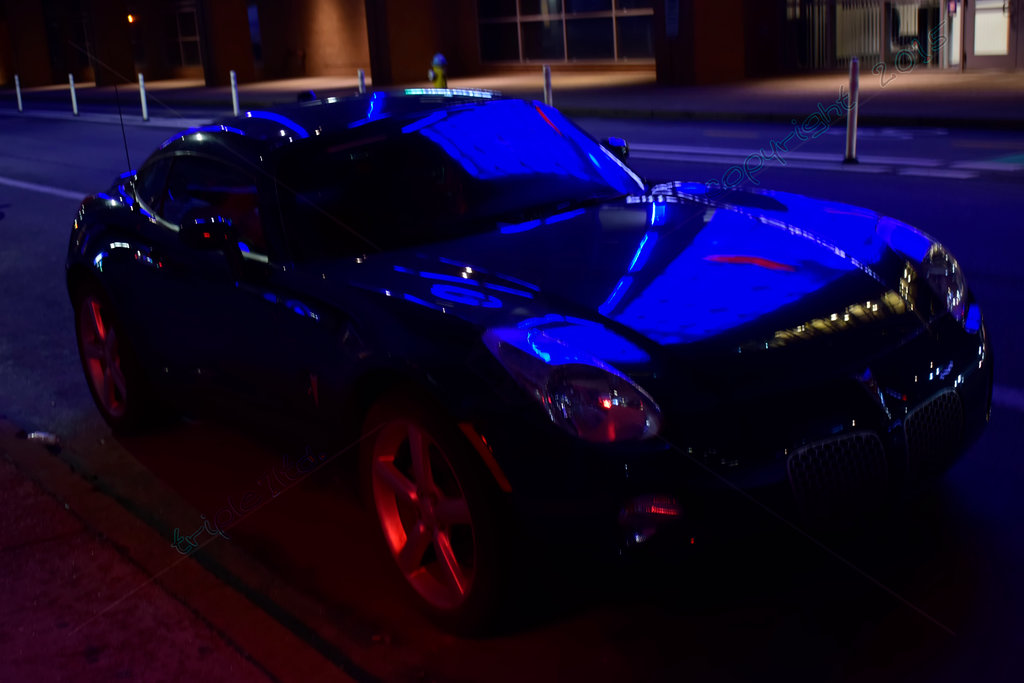car: (54, 67, 1005, 654)
